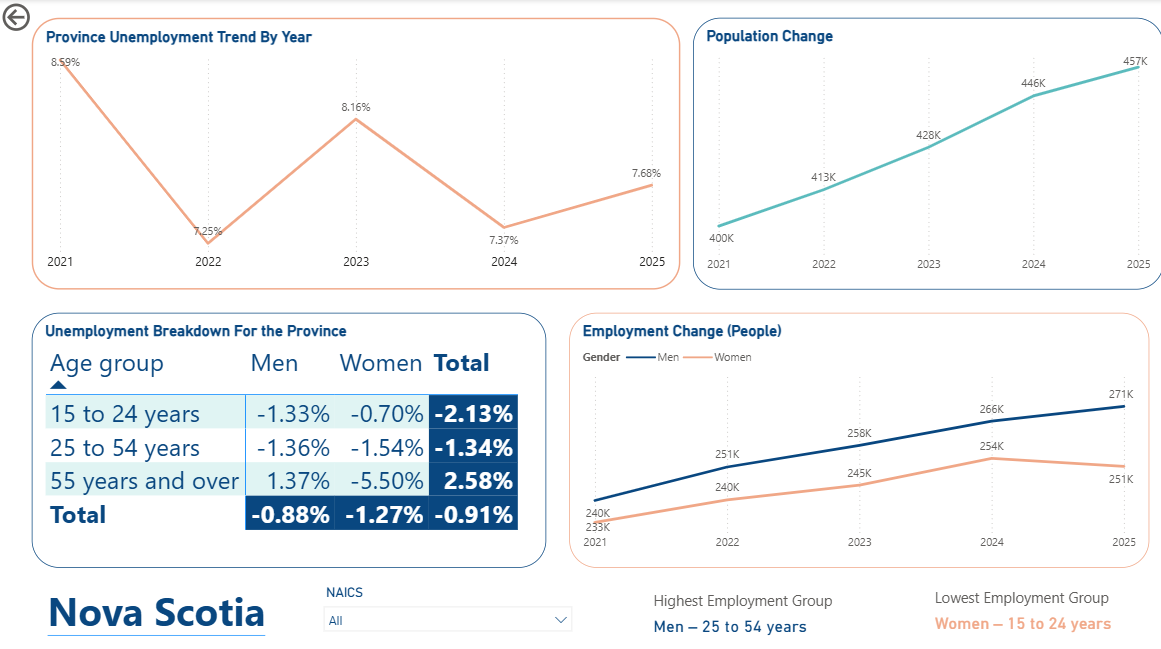

Layout of this report page (visuals, bound fields, positions):
{"tool":"powerbi","page":{"name":"Provinces Details","canvas":[1280,720],"ordinal":2},"visuals":[{"type":"textbox","box":[1106.7,558.3,50,66.7],"z":0},{"type":"lineChart","title":"Province Unemployment Trend By Year","fields":{"Category":["dim_year.Year"],"Y":["fact_province.Unemployment Measure"]},"box":[36.7,20,711.7,298.3],"z":1000},{"type":"actionButton","box":[0,0,100,40],"z":2000},{"type":"pivotTable","title":"Unemployment Breakdown For the Province","fields":{"Columns":["dim_gender.Gender"],"Rows":["dim_age.Age group"],"Values":["fact_province.Unemployment Change"]},"box":[36.7,345,565,280],"z":3000},{"type":"lineChart","title":"Employment Change (People)","fields":{"Category":["dim_year.Year"],"Series":["dim_gender.Gender"],"Y":["Sum(fact_province.Employment Total)"]},"box":[626.7,345,636.7,280],"z":4000},{"type":"cardVisual","fields":{"Data":["fact_province.Lowest Employment Group"]},"box":[1011.3,632.2,238.3,76.7],"z":5000},{"type":"cardVisual","fields":{"Data":["fact_province.Highest Employment Group"]},"box":[703.1,632.2,241.7,83.3],"z":6000},{"type":"lineChart","title":"Population Change","fields":{"Category":["dim_year.Year"],"Y":["Sum(fact_cma.Population Total)"]},"box":[763.3,20,516.7,298.3],"z":7000},{"type":"textbox","box":[50,636.7,551.7,83.3],"z":8000},{"type":"slicer","fields":{"Values":["dim_industry.NAICS"]},"box":[346.7,638.3,293.3,70],"z":9000}]}

Visuals, with their boxes in screenshot pixels (x1, y1, x2, y2), scaled from the page's 1280x720 canvas onto the 1161x649 screenshot:
textbox: <region>1004, 503, 1049, 563</region>
"Province Unemployment Trend By Year" lineChart: <region>33, 18, 679, 287</region>
actionButton: <region>0, 0, 91, 36</region>
"Unemployment Breakdown For the Province" pivotTable: <region>33, 311, 546, 563</region>
"Employment Change (People)" lineChart: <region>568, 311, 1146, 563</region>
cardVisual - fact_province.Lowest Employment Group: <region>917, 570, 1133, 639</region>
cardVisual - fact_province.Highest Employment Group: <region>638, 570, 857, 645</region>
"Population Change" lineChart: <region>692, 18, 1160, 287</region>
textbox: <region>45, 574, 546, 648</region>
slicer - dim_industry.NAICS: <region>314, 575, 580, 638</region>
